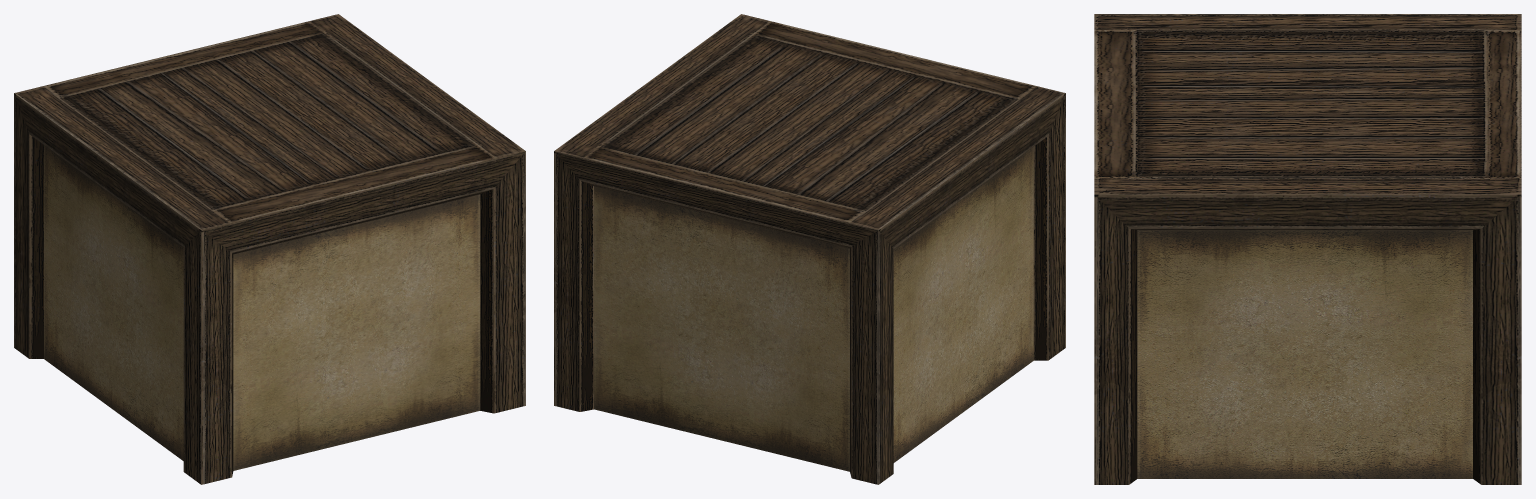
File: House_4X4_03a.fbx
The picture shows the model from 3 angles, left to right: view 1: azimuth 30°, elevation 25°; view 2: azimuth 150°, elevation 25°; view 3: azimuth 270°, elevation 25°; orthographic projection. The views are drawn at different scales.
Visible parts, largest first — view 1: House_4X4_03a; view 2: House_4X4_03a; view 3: House_4X4_03a.
Boxes of the visible parts, x1,y1,x2,y2 form: House_4X4_03a: (14,14,525,484); House_4X4_03a: (554,14,1065,484); House_4X4_03a: (1094,14,1521,484).
Size of the model in its own units: 4 by 3 by 4.
